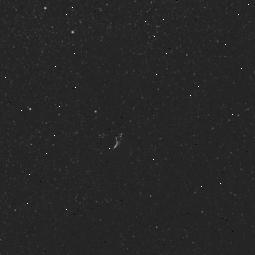debris: (102, 122, 144, 167)
